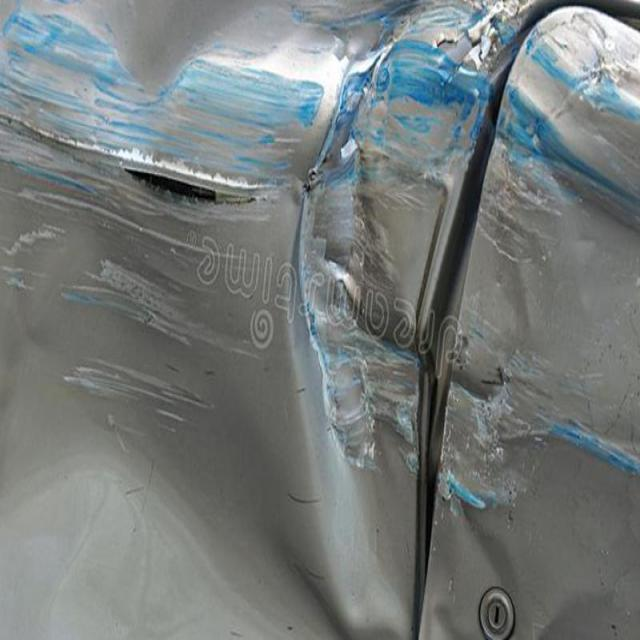dent: (271, 9, 591, 640), (40, 123, 244, 231)
